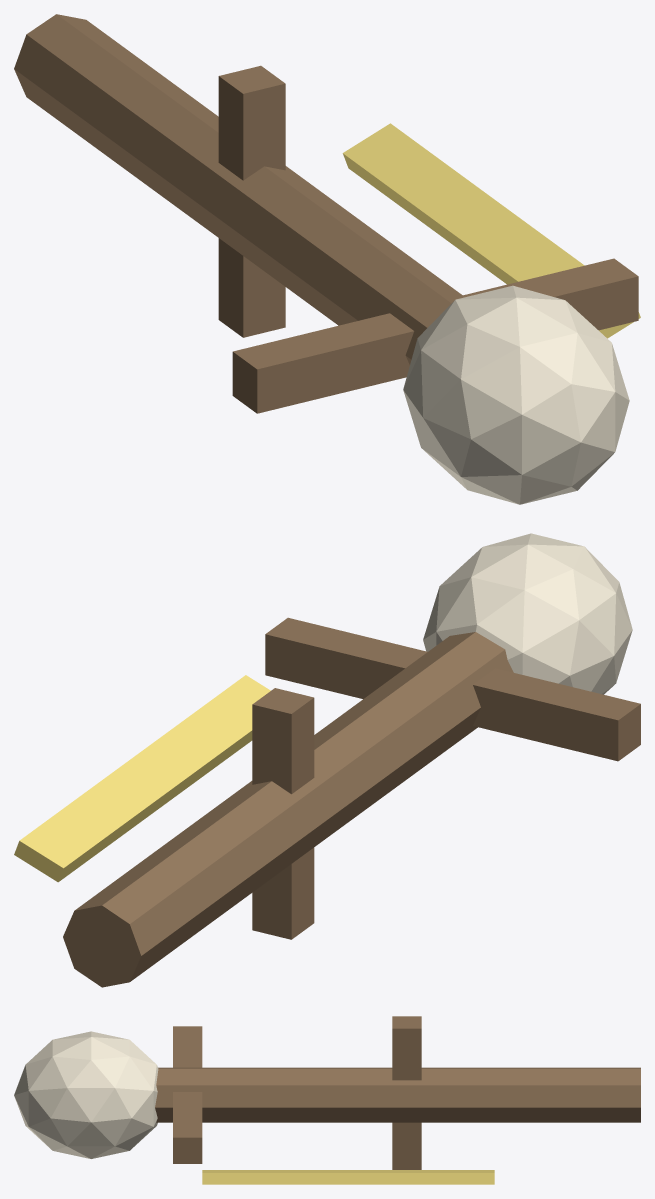
The model's file is shop_skin_display_mannequin.glb.
3 views of the same model, one above another, from view 1: azimuth 30°, elevation 25°; view 2: azimuth 150°, elevation 25°; view 3: azimuth 270°, elevation 25° (orthographic). The views are drawn at different scales.
Visible parts, largest first — view 1: spine, head, arms, ornate_blade, hips; view 2: spine, head, arms, ornate_blade, hips; view 3: spine, head, ornate_blade, arms, hips.
Part boxes in pixels (left/top/right/bottom): spine: left=14, top=14, right=464, bottom=364; head: left=403, top=285, right=629, bottom=504; arms: left=232, top=258, right=638, bottom=413; ornate_blade: left=342, top=123, right=640, bottom=338; hips: left=218, top=65, right=285, bottom=337; spine: left=63, top=632, right=513, bottom=987; head: left=423, top=533, right=632, bottom=694; arms: left=265, top=617, right=640, bottom=761; ornate_blade: left=14, top=675, right=270, bottom=882; hips: left=252, top=688, right=314, bottom=939; spine: left=155, top=1067, right=640, bottom=1122; head: left=14, top=1031, right=158, bottom=1158; ornate_blade: left=202, top=1170, right=494, bottom=1184; arms: left=173, top=1026, right=202, bottom=1163; hips: left=392, top=1016, right=421, bottom=1169.
Size of the model in its own units: 0.9632 by 0.55 by 2.14.
